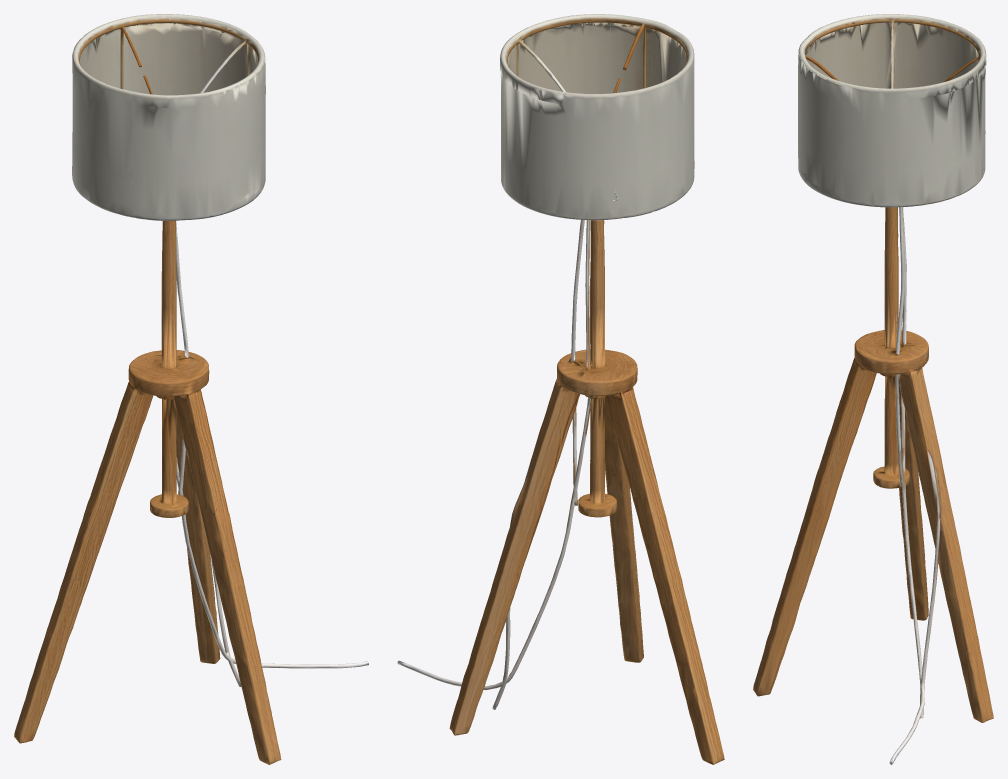
The model's file is lauters-floor-lamp.glb.
3 renders of one model, left to right at view 1: azimuth 30°, elevation 25°; view 2: azimuth 150°, elevation 25°; view 3: azimuth 270°, elevation 25°, orthographic. The views are drawn at different scales.
Parts seen in each view (by area): view 1: tripo_node_64be5f32-7171-4b73-8a61-4a5e6a068320; view 2: tripo_node_64be5f32-7171-4b73-8a61-4a5e6a068320; view 3: tripo_node_64be5f32-7171-4b73-8a61-4a5e6a068320.
Boxes of the visible parts, x1,y1,x2,y2 form: tripo_node_64be5f32-7171-4b73-8a61-4a5e6a068320: (14, 14, 368, 764); tripo_node_64be5f32-7171-4b73-8a61-4a5e6a068320: (397, 14, 724, 764); tripo_node_64be5f32-7171-4b73-8a61-4a5e6a068320: (753, 14, 993, 764).
Bounding box in the file's own units: 0.8021 × 1.51 × 0.5252.
1 material, 1 textured.
